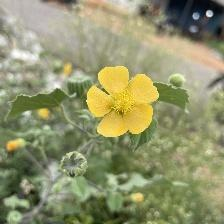indian mallow: (86, 66, 162, 140)
